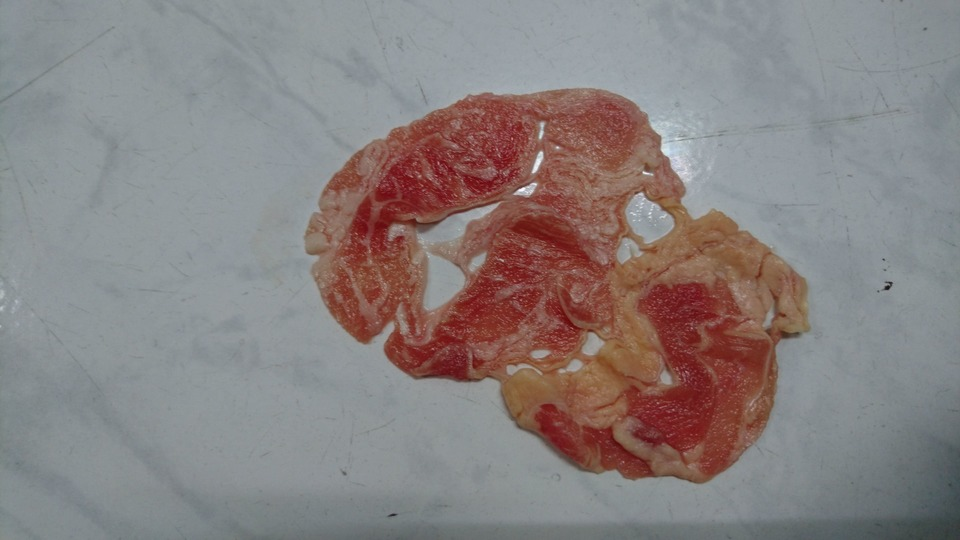restructured meat: (258, 89, 826, 487)
